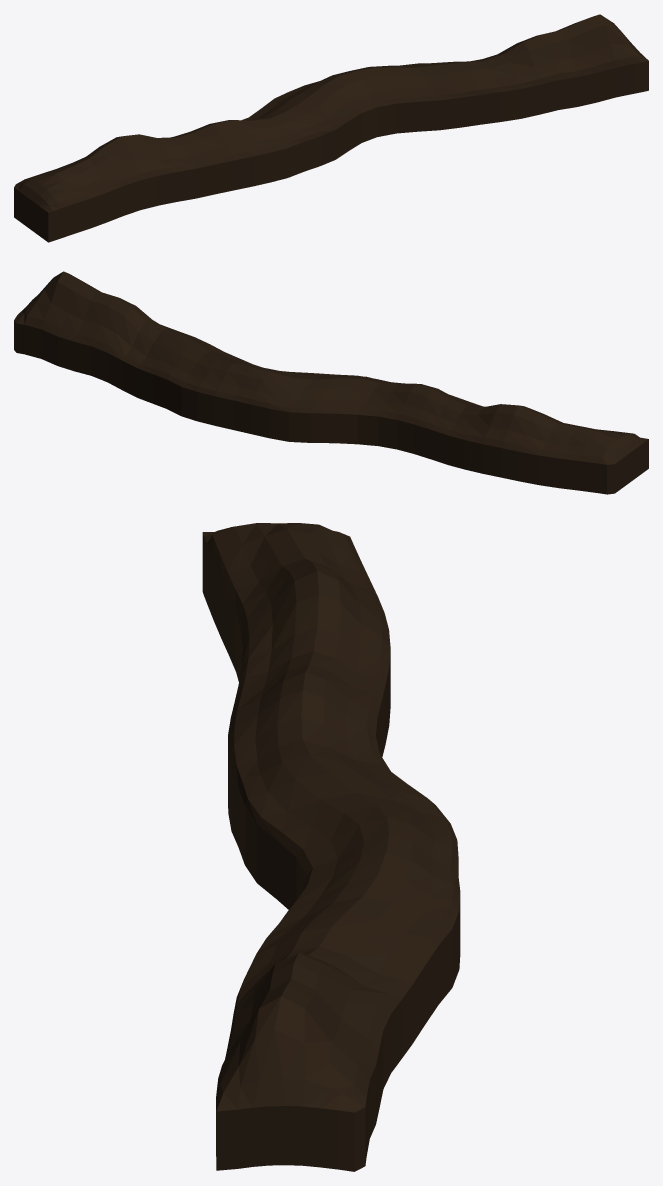
The model's file is Island_D02_Long01_Model.fbx.
3 renders of one model, top to bottom at view 1: azimuth 30°, elevation 25°; view 2: azimuth 150°, elevation 25°; view 3: azimuth 270°, elevation 25°, orthographic. The views are drawn at different scales.
Parts seen in each view (by area): view 1: Island_D_Long01; view 2: Island_D_Long01; view 3: Island_D_Long01.
Boxes of the visible parts, x1,y1,x2,y2 form: Island_D_Long01: [14, 14, 648, 242]; Island_D_Long01: [14, 271, 648, 494]; Island_D_Long01: [202, 523, 460, 1171].
Size of the model in its own units: 272 by 33.24 by 50.78.
